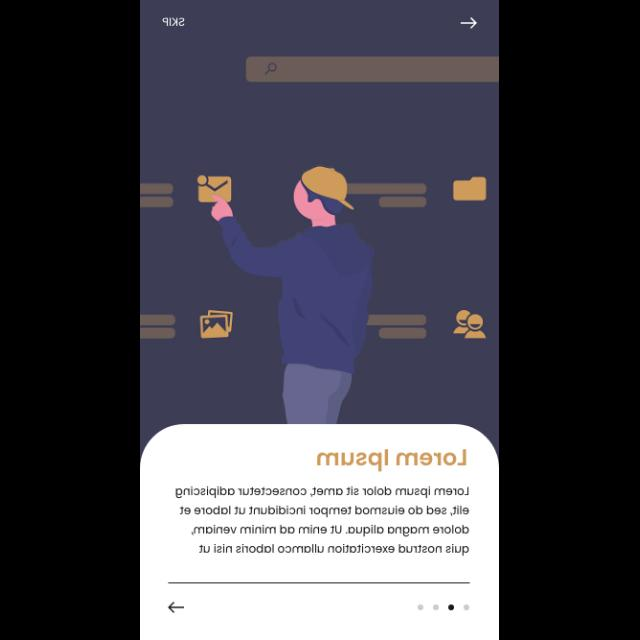icon: (167, 600, 185, 614), (460, 18, 478, 30)
image: (141, 1, 499, 425)
pageindicator: (416, 604, 469, 612)
text: (175, 486, 470, 556), (317, 449, 467, 473), (162, 18, 185, 28)
